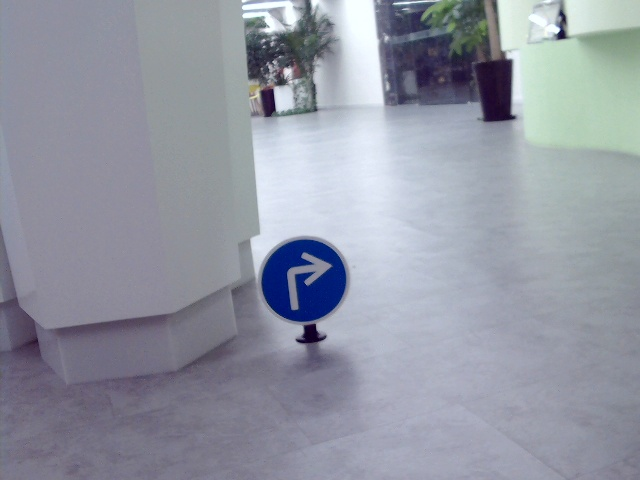turn_right: (279, 252, 332, 314)
